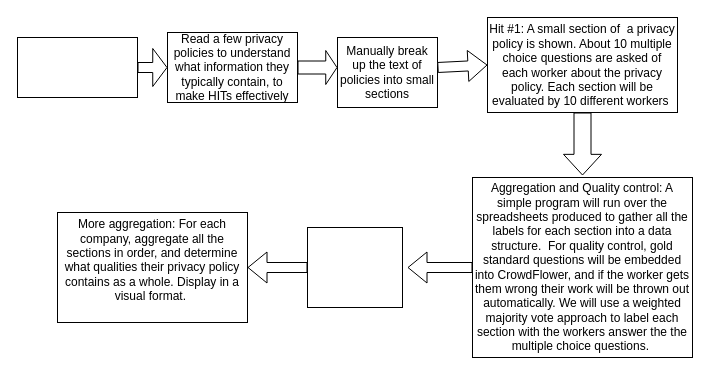
Image size: 710x375. Some labels were removed from this diagram. The shapes that lost their labels are listed below. From the top down, each one's centre as x and y in pixels, then its label:
point 77,67: 5-10 Privacy Policies of Major Companies
point 354,267: Database: Text Section Company Labels
